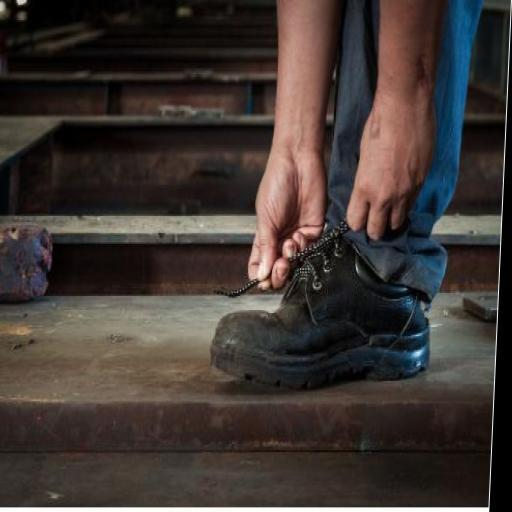safety_boots: (208, 297, 466, 390)
